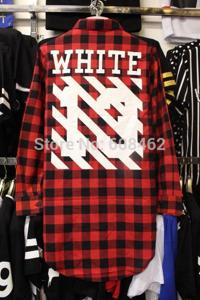C_jacket: (11, 8, 191, 286)
